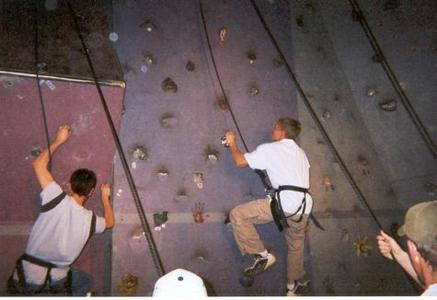person: (225, 117, 313, 296)
